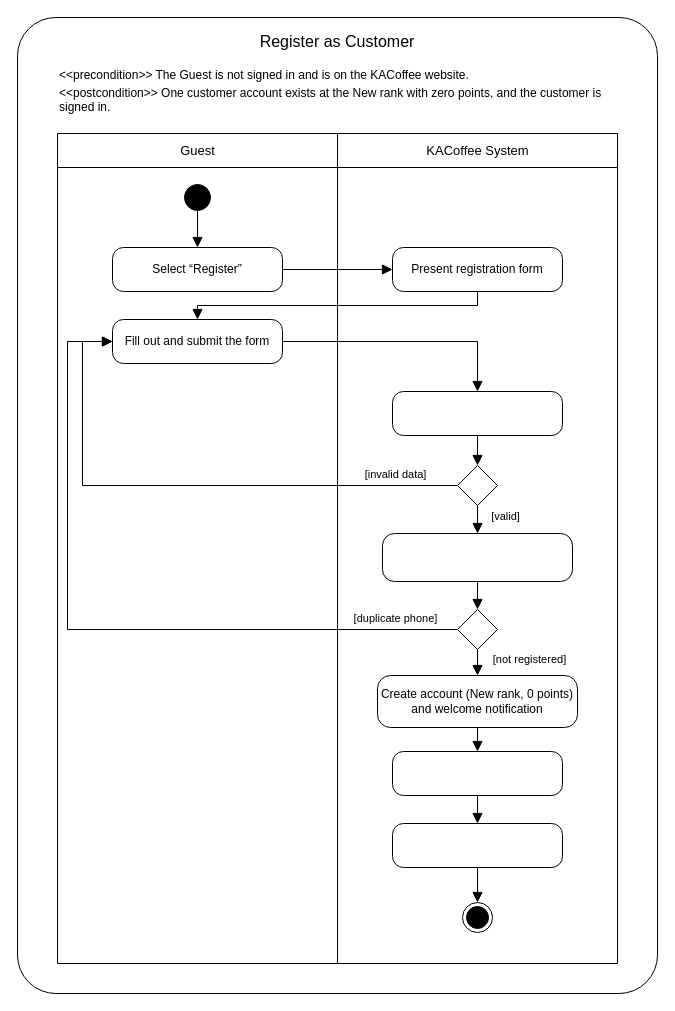
Image size: 675x1011. Some labels were removed from this diagram. The centre of each missing label's shape, as x and y in pixels:
Check that the phone number is not registered: (x=477, y=557)
Issue access and refresh tokens: (x=477, y=773)
Open the member area: (x=477, y=845)
Validate required fields and lengths: (x=477, y=413)
